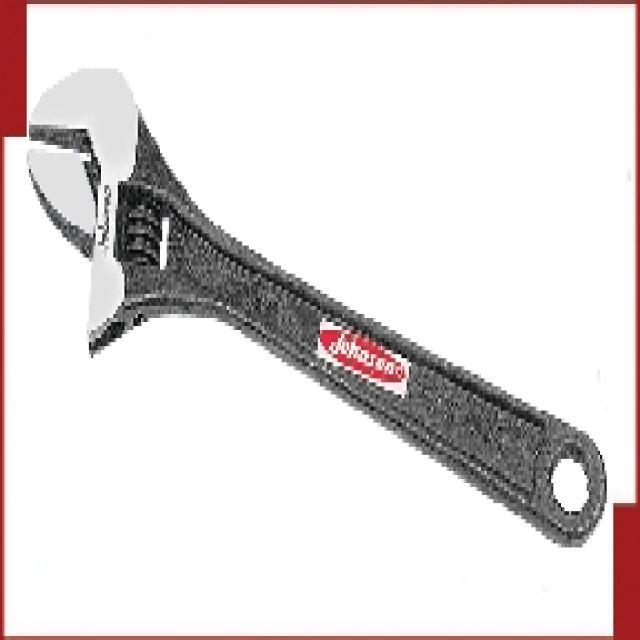wrench: (15, 59, 610, 572)
